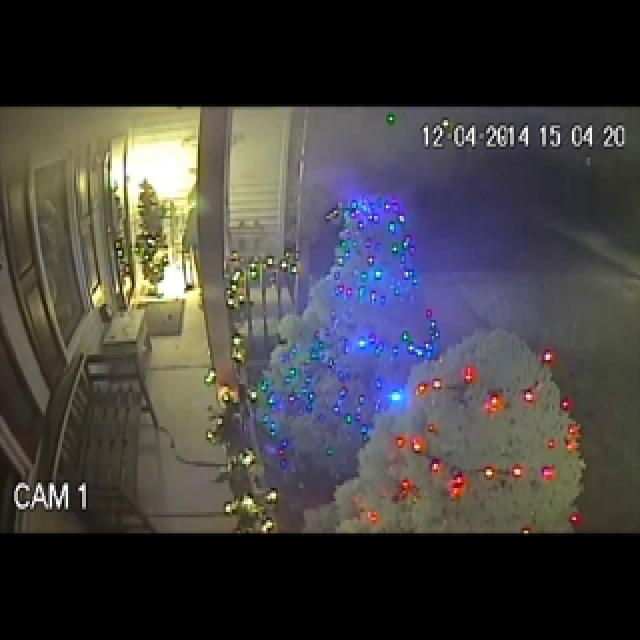arson: (54, 136, 393, 422)
